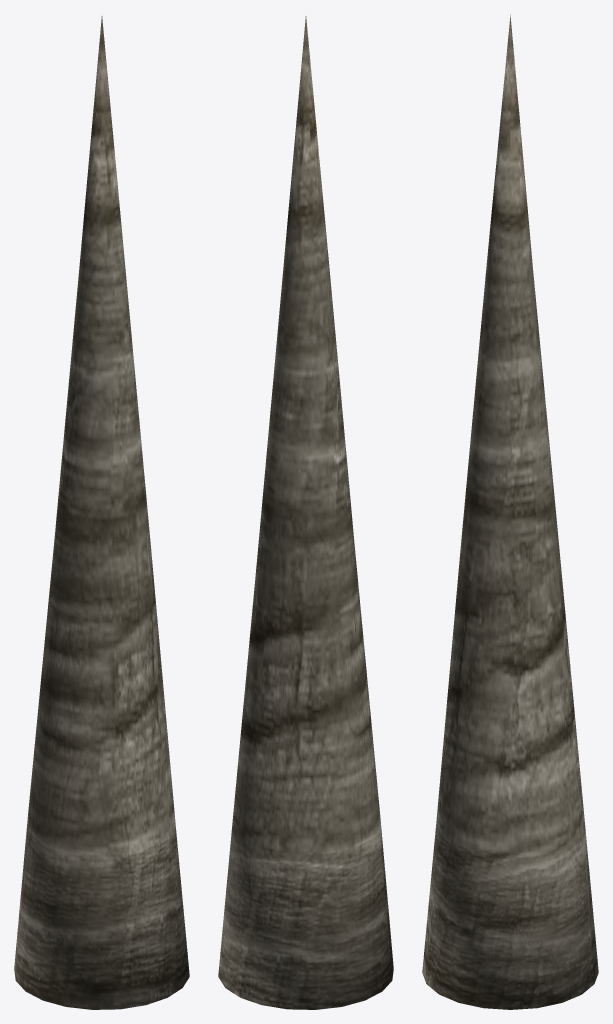
The model's file is Horn.fbx.
3 views of the same model, side by side, from view 1: azimuth 30°, elevation 25°; view 2: azimuth 150°, elevation 25°; view 3: azimuth 270°, elevation 25° (orthographic).
Parts seen in each view (by area): view 1: Horn; view 2: Horn; view 3: Horn.
Boxes of the visible parts, x1,y1,x2,y2 form: Horn: (14,16,189,1009); Horn: (218,16,393,1009); Horn: (422,14,598,1009).
Bounding box in the file's own units: 5.52 × 33.09 × 5.52.
Materials: 1 (1 with a texture image).
